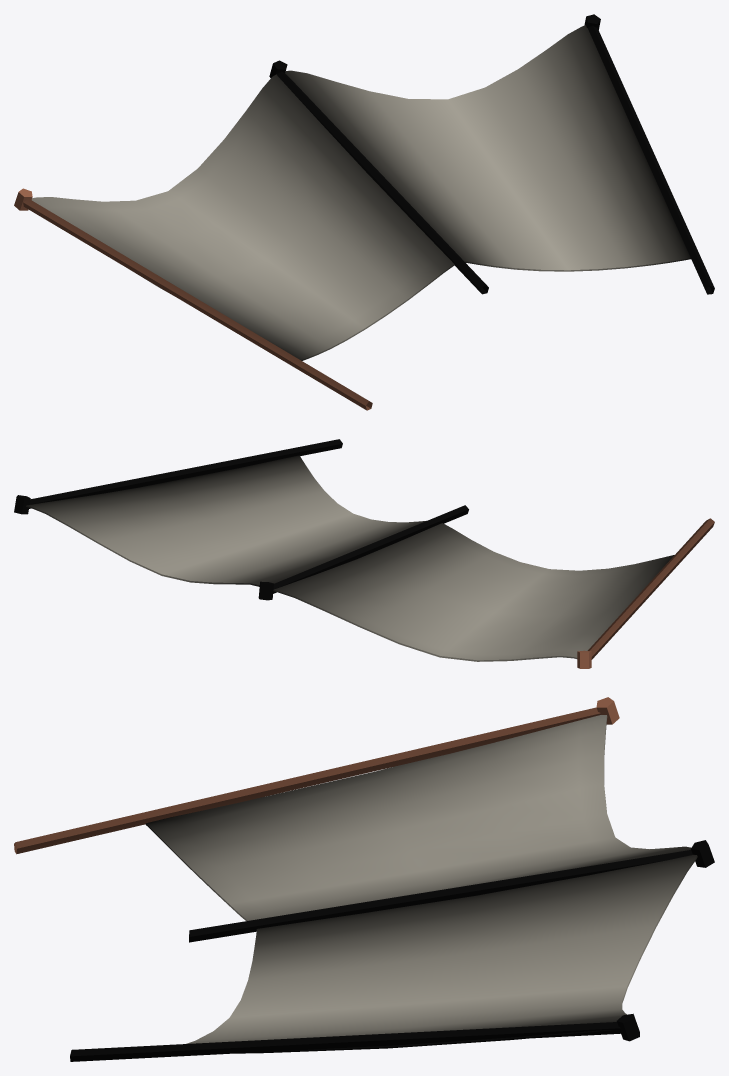
Rendered from LightWoodDecorationLargeFixedSail1.fbx.
3 renders of one model, top to bottom at view 1: azimuth 30°, elevation 25°; view 2: azimuth 150°, elevation 25°; view 3: azimuth 270°, elevation 25°, orthographic. The views are drawn at different scales.
Visible parts, largest first — view 1: LightWoodDecorationLargeFixedSail1; view 2: LightWoodDecorationLargeFixedSail1; view 3: LightWoodDecorationLargeFixedSail1.
Part boxes in pixels (left/top/right/bottom): LightWoodDecorationLargeFixedSail1: left=14, top=14, right=714, bottom=410; LightWoodDecorationLargeFixedSail1: left=14, top=439, right=714, bottom=668; LightWoodDecorationLargeFixedSail1: left=14, top=697, right=714, bottom=1061.
Bounding box in the file's own units: 670 × 111 × 554.
